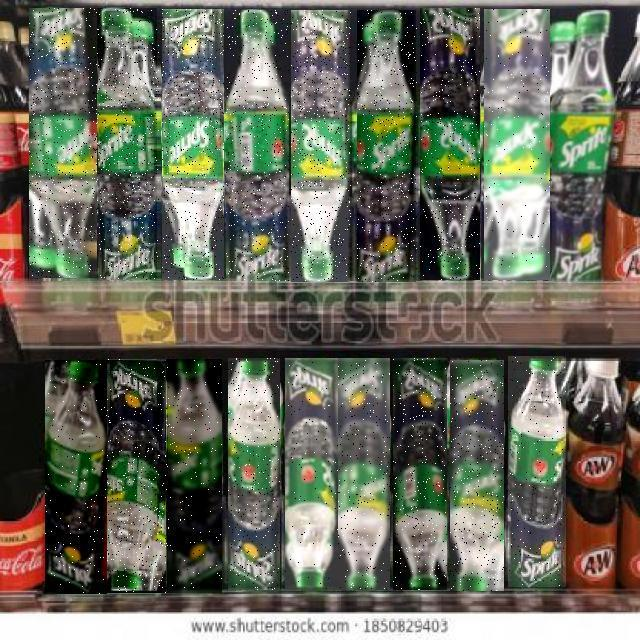Drinks: (29, 8, 97, 278), (484, 9, 550, 280), (226, 10, 289, 281), (98, 8, 160, 280), (552, 10, 614, 282), (162, 9, 224, 280), (420, 8, 480, 280), (358, 10, 418, 282), (292, 10, 352, 282), (45, 361, 107, 595), (108, 359, 170, 593), (508, 356, 566, 587), (393, 358, 447, 590), (450, 360, 504, 591), (169, 359, 222, 593), (285, 358, 338, 590), (228, 358, 280, 590), (338, 358, 390, 590)
